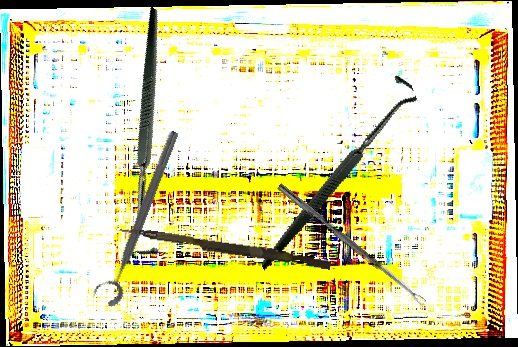Fixation Ring: (89, 124, 185, 310)
Hook Surgical: (35, 6, 269, 263), (214, 70, 456, 272)
Pusher: (118, 226, 332, 270)
Surgical Spoon: (276, 183, 427, 307)
